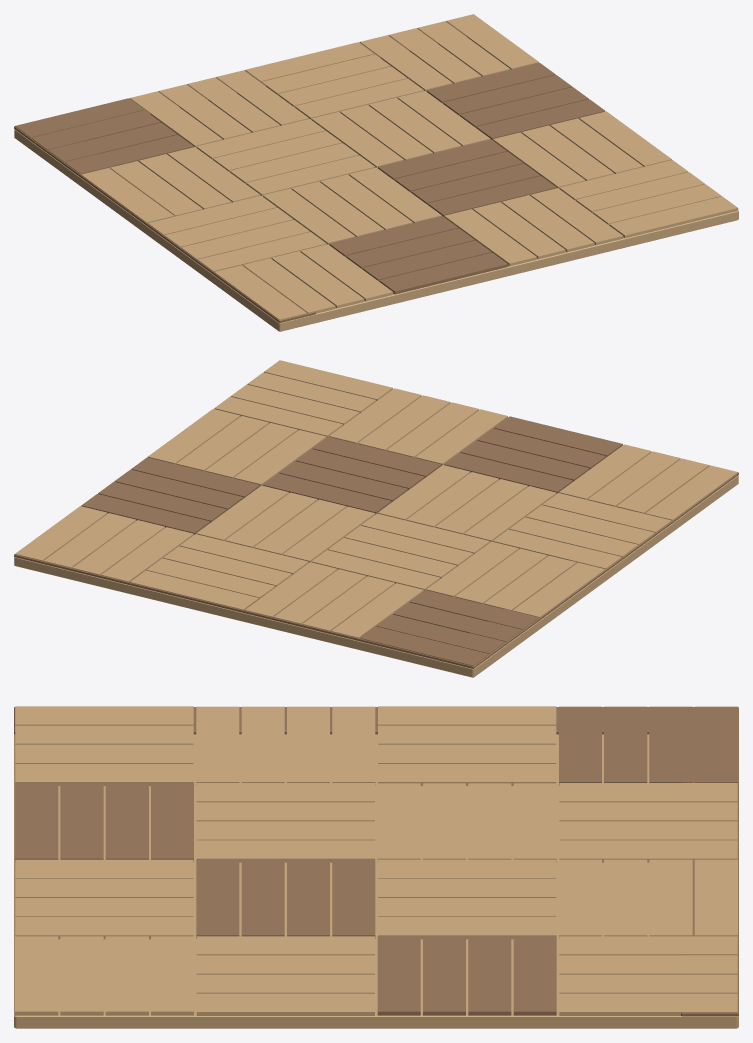
The model's file is village-hall-and-community-events-parquet-floor-tile-b-965c446f.glb.
The picture shows the model from 3 angles, top to bottom: view 1: azimuth 30°, elevation 25°; view 2: azimuth 150°, elevation 25°; view 3: azimuth 270°, elevation 25°; orthographic projection. The views are drawn at different scales.
Visible parts, largest first — view 1: parquet-floor-tile-border; view 2: parquet-floor-tile-border; view 3: parquet-floor-tile-border.
Part boxes in pixels (x1,y1,x2,y2): parquet-floor-tile-border: (14, 14, 738, 331); parquet-floor-tile-border: (14, 360, 738, 677); parquet-floor-tile-border: (14, 706, 738, 1028).
Size of the model in its own units: 2 by 0.052 by 2.
